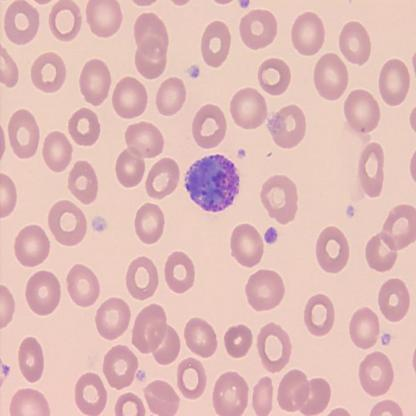Basophil: (183, 154, 242, 215)
